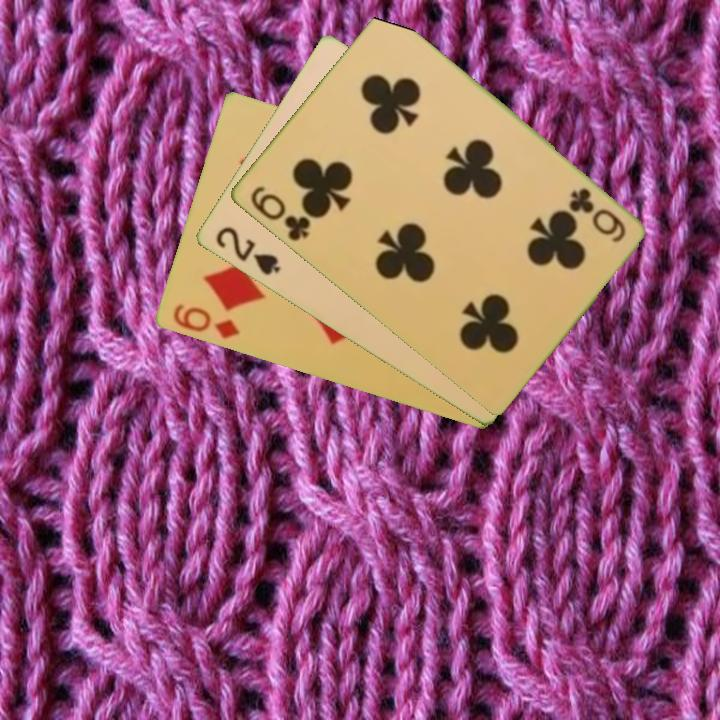2s: (211, 223, 283, 279)
6c: (246, 182, 313, 245), (565, 184, 629, 246)
6d: (169, 300, 242, 342)
